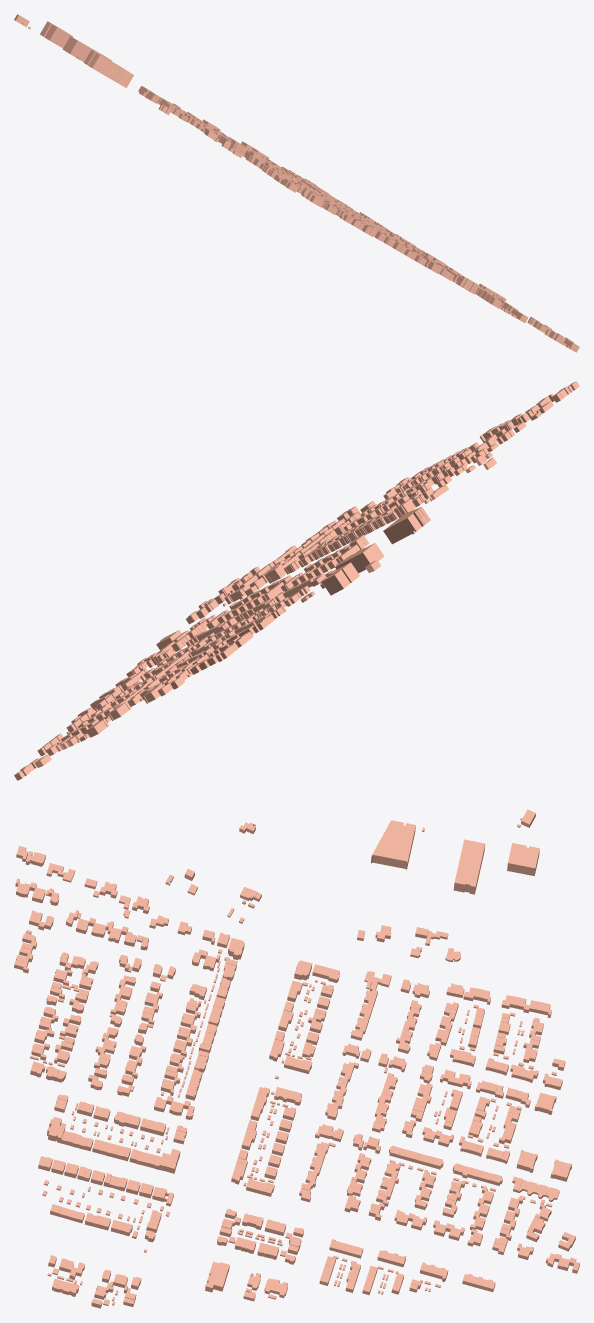
The picture shows the model from 3 angles, top to bottom: view 1: azimuth 30°, elevation 25°; view 2: azimuth 150°, elevation 25°; view 3: azimuth 270°, elevation 25°; orthographic projection. The views are drawn at different scales.
Size of the model in its own units: 526 by 384 by 641.
